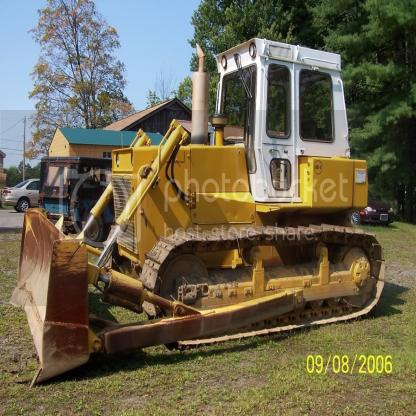bull_dozer/loader/grader: (26, 30, 390, 394)
